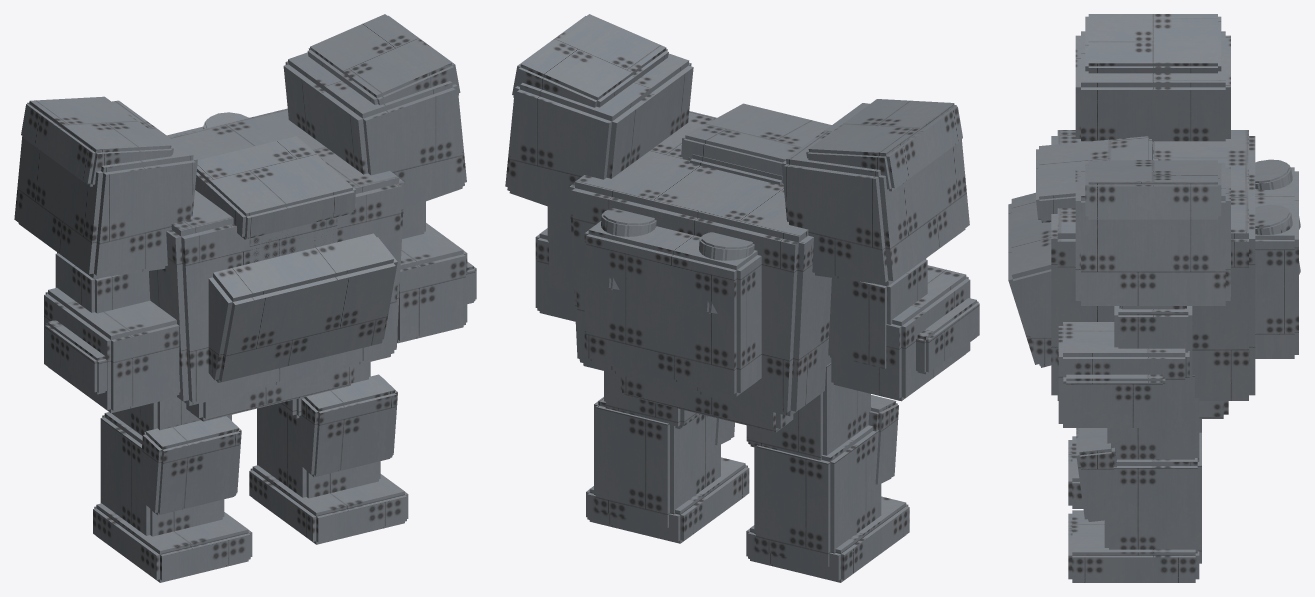
Rendered from bastion_mech.glb.
The picture shows the model from 3 angles, left to right: view 1: azimuth 30°, elevation 25°; view 2: azimuth 150°, elevation 25°; view 3: azimuth 270°, elevation 25°; orthographic projection. The views are drawn at different scales.
Parts seen in each view (by area): view 1: torso, shoulder_l, shoulder_r, shin_l, shin_r, head, forearm_l, forearm_r, upper_arm_l, thigh_l, upper_arm_r, thigh_r; view 2: torso, shoulder_l, shoulder_r, shin_l, shin_r, forearm_l, head, upper_arm_l, thigh_l, upper_arm_r, thigh_r, forearm_r; view 3: torso, shoulder_r, shoulder_l, shin_r, forearm_r, head, upper_arm_r, thigh_r, shin_l.
Part boxes in pixels (x1,y1,x2,y2): torso: (149, 108, 404, 421); shoulder_l: (14, 96, 197, 278); shoulder_r: (283, 14, 466, 208); shin_l: (93, 412, 252, 582); shin_r: (249, 374, 408, 544); head: (195, 136, 355, 263); forearm_l: (44, 287, 180, 413); forearm_r: (397, 223, 476, 343); upper_arm_l: (55, 252, 150, 313); thigh_l: (112, 397, 231, 435); upper_arm_r: (402, 201, 425, 238); thigh_r: (277, 362, 370, 418); torso: (569, 111, 831, 432); shoulder_l: (781, 99, 969, 285); shoulder_r: (505, 14, 693, 214); shin_l: (746, 395, 909, 582); shin_r: (586, 397, 749, 543); forearm_l: (831, 265, 979, 401); head: (681, 103, 831, 184); upper_arm_l: (828, 258, 927, 368); thigh_l: (746, 363, 870, 460); upper_arm_r: (547, 206, 574, 292); thigh_r: (604, 371, 700, 428); forearm_r: (535, 228, 575, 321); torso: (1008, 130, 1300, 418); shoulder_r: (1075, 160, 1230, 305); shoulder_l: (1075, 14, 1230, 141); shin_r: (1068, 428, 1201, 582); forearm_r: (1058, 322, 1189, 427); head: (1036, 136, 1158, 222); upper_arm_r: (1114, 306, 1192, 391); thigh_r: (1107, 375, 1199, 461); shin_l: (1068, 419, 1201, 508).
Bounding box in the file's own units: 1.76 × 1.94 × 1.2.
1 material, 1 textured.
